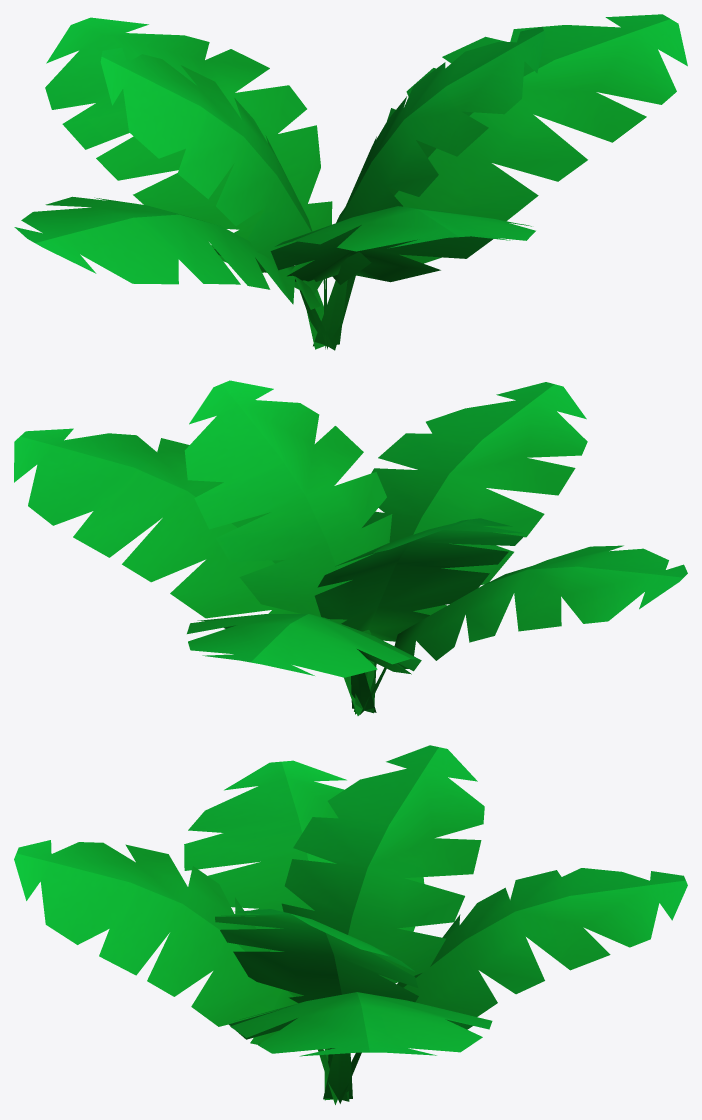
File: Foliage_9.fbx
3 renders of one model, top to bottom at view 1: azimuth 30°, elevation 25°; view 2: azimuth 150°, elevation 25°; view 3: azimuth 270°, elevation 25°, orthographic. The views are drawn at different scales.
Parts seen in each view (by area): view 1: Foliage_9; view 2: Foliage_9; view 3: Foliage_9.
Boxes of the visible parts, left/top/right/bottom form: Foliage_9: left=14, top=14, right=687, bottom=350; Foliage_9: left=14, top=380, right=687, bottom=715; Foliage_9: left=14, top=745, right=687, bottom=1104.
Bounding box in the file's own units: 1.68 × 0.6859 × 1.52.
